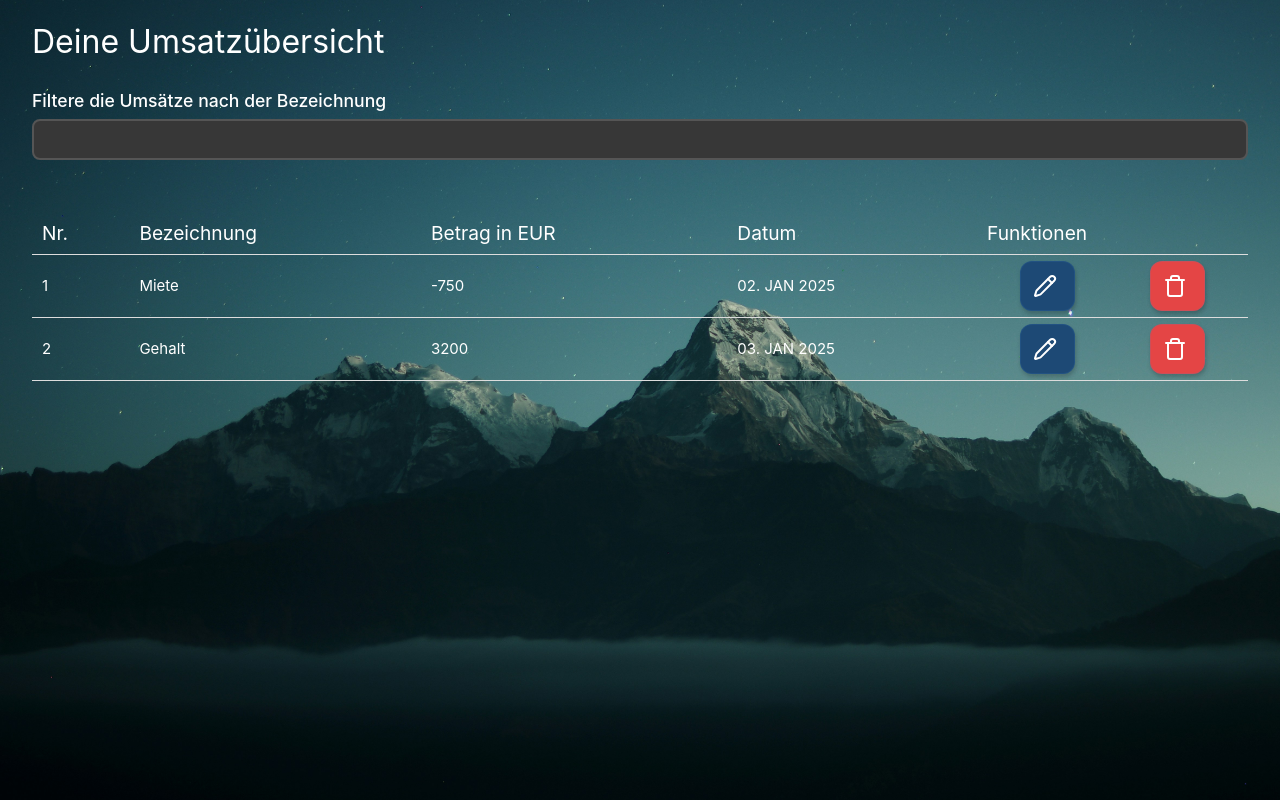
Scenario: DynamicTable (Auth0 gemockt) › filtert Einträge nach Beschreibung
Type "miet" into the field with id "descriptionFilter".
click(640, 139); type("miet")  # box [32,119,1248,160]
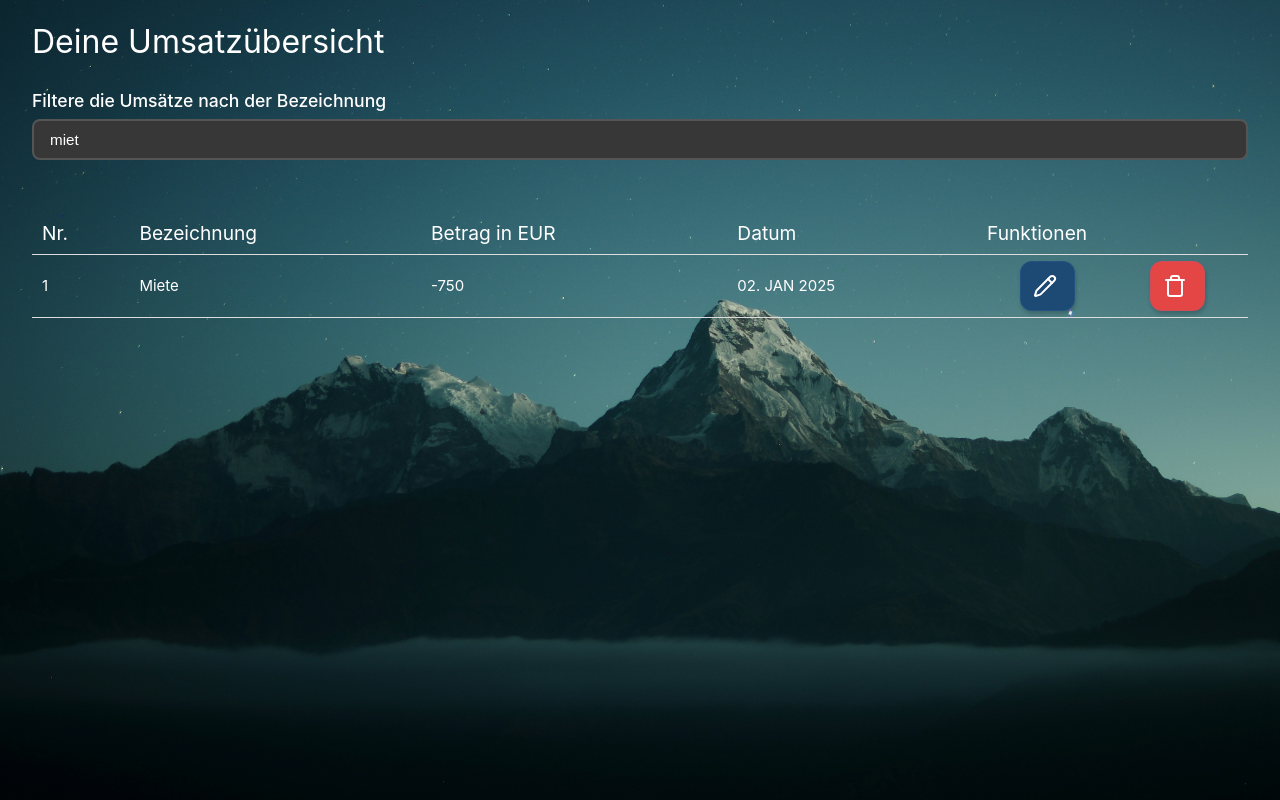
Expected: the text "Miete" is shown, [139,276,179,295]
Expected: the text "Gehalt" is gone
